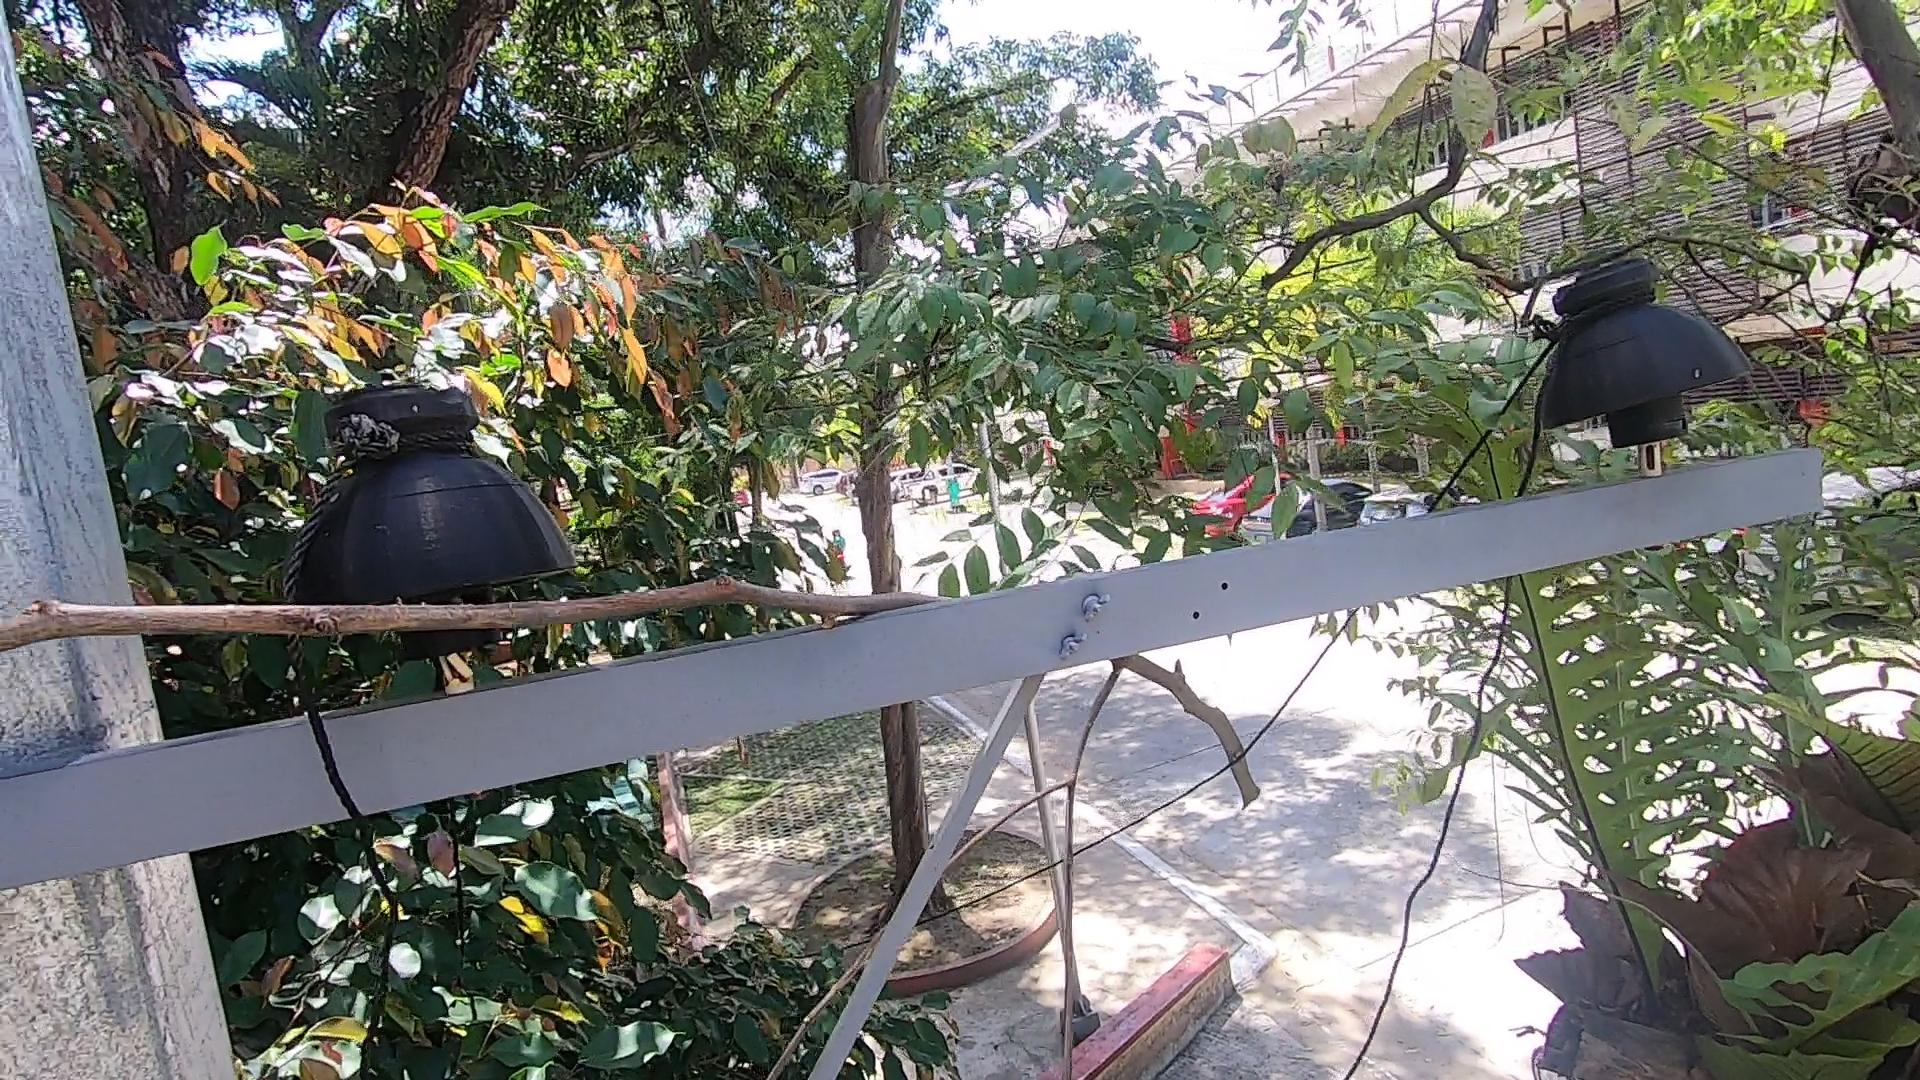tree branch: (942, 644, 1319, 1073), (1, 582, 924, 727), (757, 928, 878, 1080)
